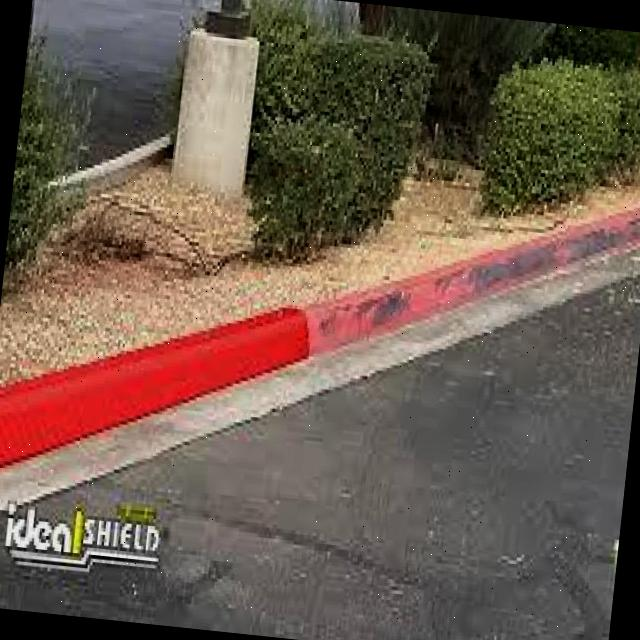curb: (106, 300, 310, 433), (1, 333, 142, 494), (292, 276, 399, 365)
